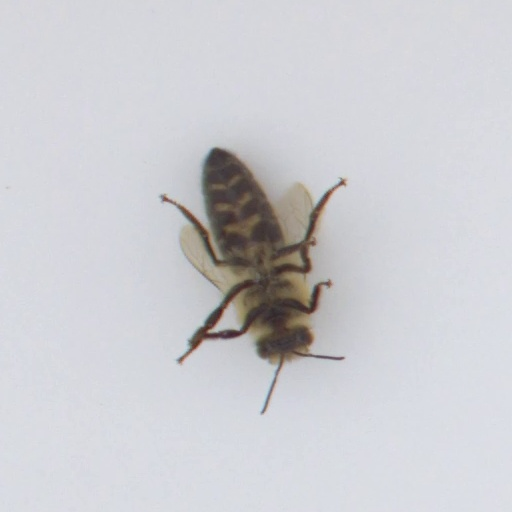Bee: (190, 136, 335, 375)
